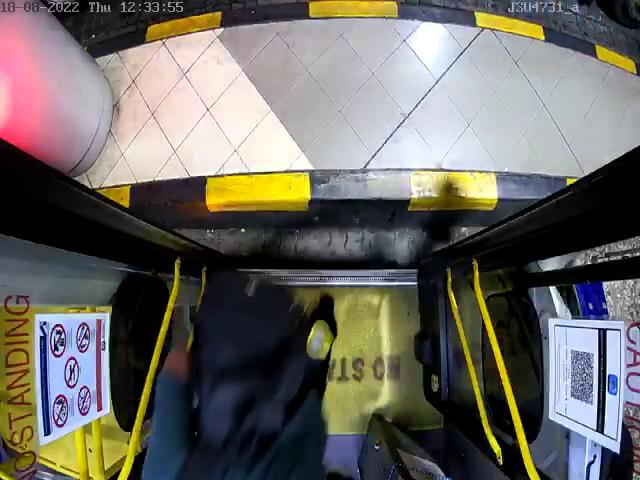open: (0, 0, 640, 159)
